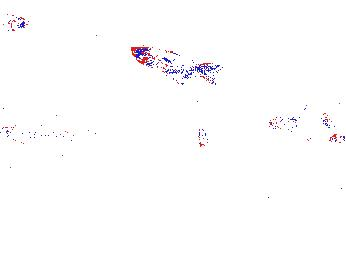red belly glassfish: (328, 131, 346, 147)
redtail glassfish: (129, 44, 215, 85), (1, 122, 100, 153), (267, 107, 333, 137), (108, 73, 171, 94), (1, 9, 30, 33)
